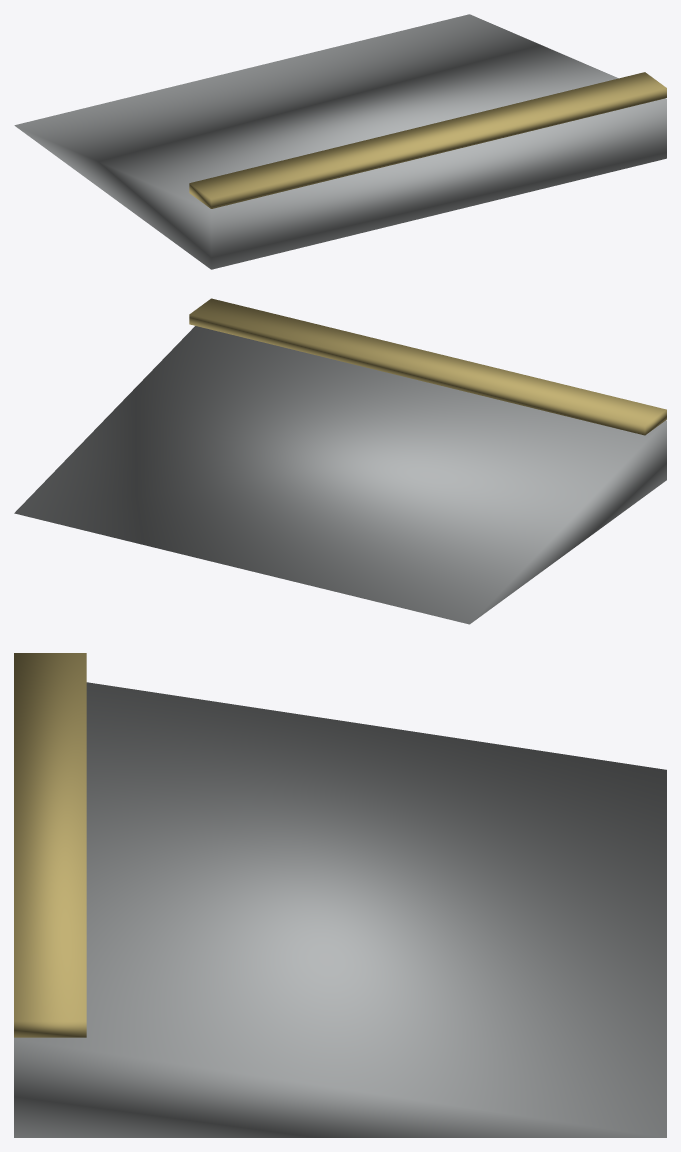
Rendered from curb_ramp_yellow_w120_h15_r90.glb.
3 renders of one model, top to bottom at view 1: azimuth 30°, elevation 25°; view 2: azimuth 150°, elevation 25°; view 3: azimuth 270°, elevation 25°, orthographic. The views are drawn at different scales.
Visible parts, largest first — view 1: world; view 2: world; view 3: world.
Boxes of the visible parts, <box> form: world: <box>14,14,666,269</box>; world: <box>14,298,666,624</box>; world: <box>14,653,666,1137</box>.
Bounding box in the file's own units: 1.2 × 0.1775 × 0.9.
